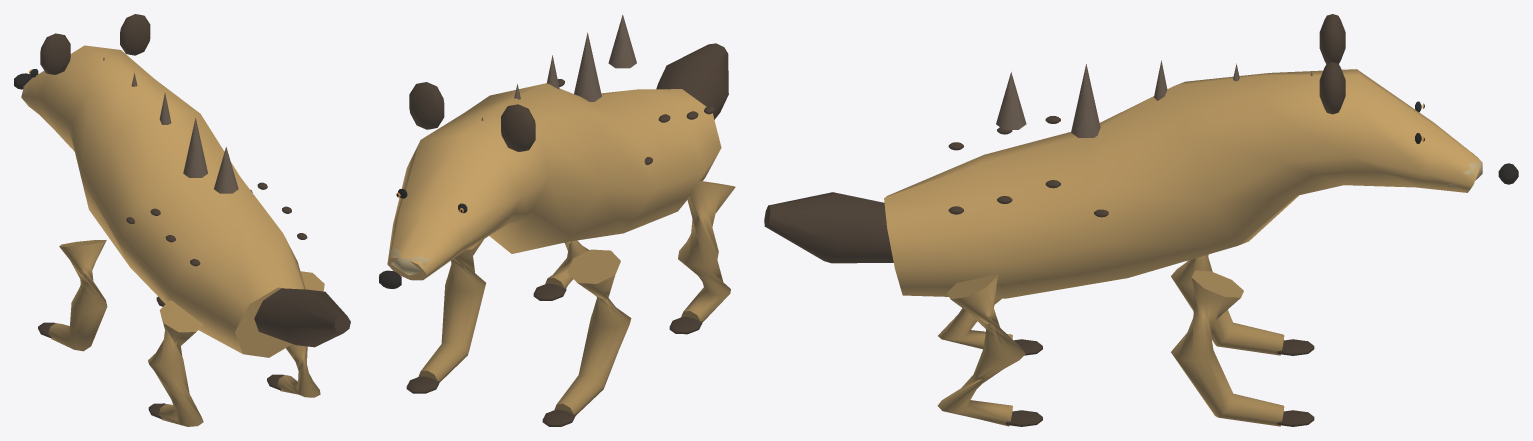
File: hyena_mobile.glb
3 views of the same model, side by side, from view 1: azimuth 30°, elevation 25°; view 2: azimuth 150°, elevation 25°; view 3: azimuth 270°, elevation 25° (orthographic). The views are drawn at different scales.
Visible parts, largest first — view 1: HyenaOrganicBody, Tail, Leg_LH, Leg_LF, Leg_RH, RoundEar2, RoundEar, BackManeDetail_01, BackManeDetail_00; view 2: HyenaOrganicBody, Leg_LF, Leg_LH, Leg_RF, Tail, RoundEar2, RoundEar, BackManeDetail_01, BackManeDetail_00, Leg_RH, Muzzle, Paw_RF (+4 smaller); view 3: HyenaOrganicBody, Tail, Leg_RF, Leg_RH, Leg_LF, BackManeDetail_01, Leg_LH, RoundEar2, RoundEar, BackManeDetail_00.
Part boxes in pixels (x1,y1,x2,y2): HyenaOrganicBody: (21, 45, 305, 357); Tail: (254, 288, 350, 347); Leg_LH: (148, 300, 203, 426); Leg_LF: (48, 240, 107, 351); Leg_RH: (277, 271, 324, 397); RoundEar2: (120, 14, 150, 55); RoundEar: (40, 33, 70, 74); BackManeDetail_01: (183, 118, 207, 177); BackManeDetail_00: (214, 147, 238, 193); HyenaOrganicBody: (387, 83, 721, 280); Leg_LF: (554, 249, 631, 415); Leg_LH: (678, 181, 735, 322); Leg_RF: (418, 239, 485, 382); Tail: (656, 43, 728, 119); RoundEar2: (409, 82, 444, 129); RoundEar: (501, 104, 535, 151); BackManeDetail_01: (574, 32, 601, 101); BackManeDetail_00: (608, 14, 636, 68); Leg_RH: (545, 240, 589, 288); Muzzle: (389, 248, 442, 275); Paw_RF: (406, 376, 439, 393); HyenaOrganicBody: (884, 69, 1480, 298); Tail: (764, 192, 893, 263); Leg_RF: (1171, 270, 1284, 426); Leg_RH: (937, 274, 1025, 426); Leg_LF: (1171, 254, 1284, 355); BackManeDetail_01: (1071, 64, 1100, 137); Leg_LH: (938, 298, 1012, 349); RoundEar2: (1319, 61, 1345, 114); RoundEar: (1319, 14, 1345, 63); BackManeDetail_00: (996, 72, 1026, 129).
Bounding box in the file's own units: 1.44 × 2.45 × 4.76.
